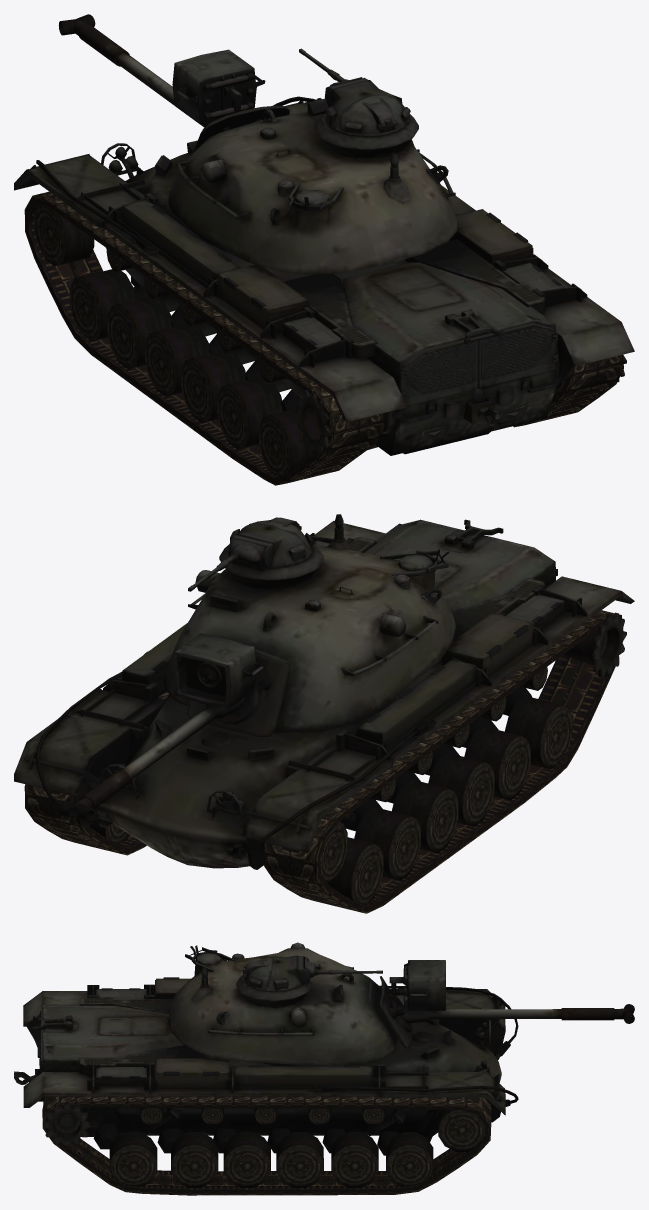
File: type_m48a5.glb
3 renders of one model, top to bottom at view 1: azimuth 30°, elevation 25°; view 2: azimuth 150°, elevation 25°; view 3: azimuth 270°, elevation 25°, orthographic. The views are drawn at different scales.
Visible parts, largest first — view 1: Object_2, Object_4, Object_3; view 2: Object_2, Object_4, Object_3; view 3: Object_2, Object_4, Object_3.
Part boxes in pixels (<box>): Object_2: <box>14,21,634,476</box>; Object_4: <box>24,191,623,485</box>; Object_3: <box>59,14,626,376</box>; Object_2: <box>14,514,634,904</box>; Object_4: <box>24,610,623,913</box>; Object_3: <box>59,633,289,821</box>; Object_2: <box>14,942,634,1187</box>; Object_4: <box>42,1096,491,1195</box>; Object_3: <box>45,960,634,1134</box>.
Bounding box in the file's own units: 3.36 × 2.93 × 8.29.
Materials: 2 (2 with a texture image).
